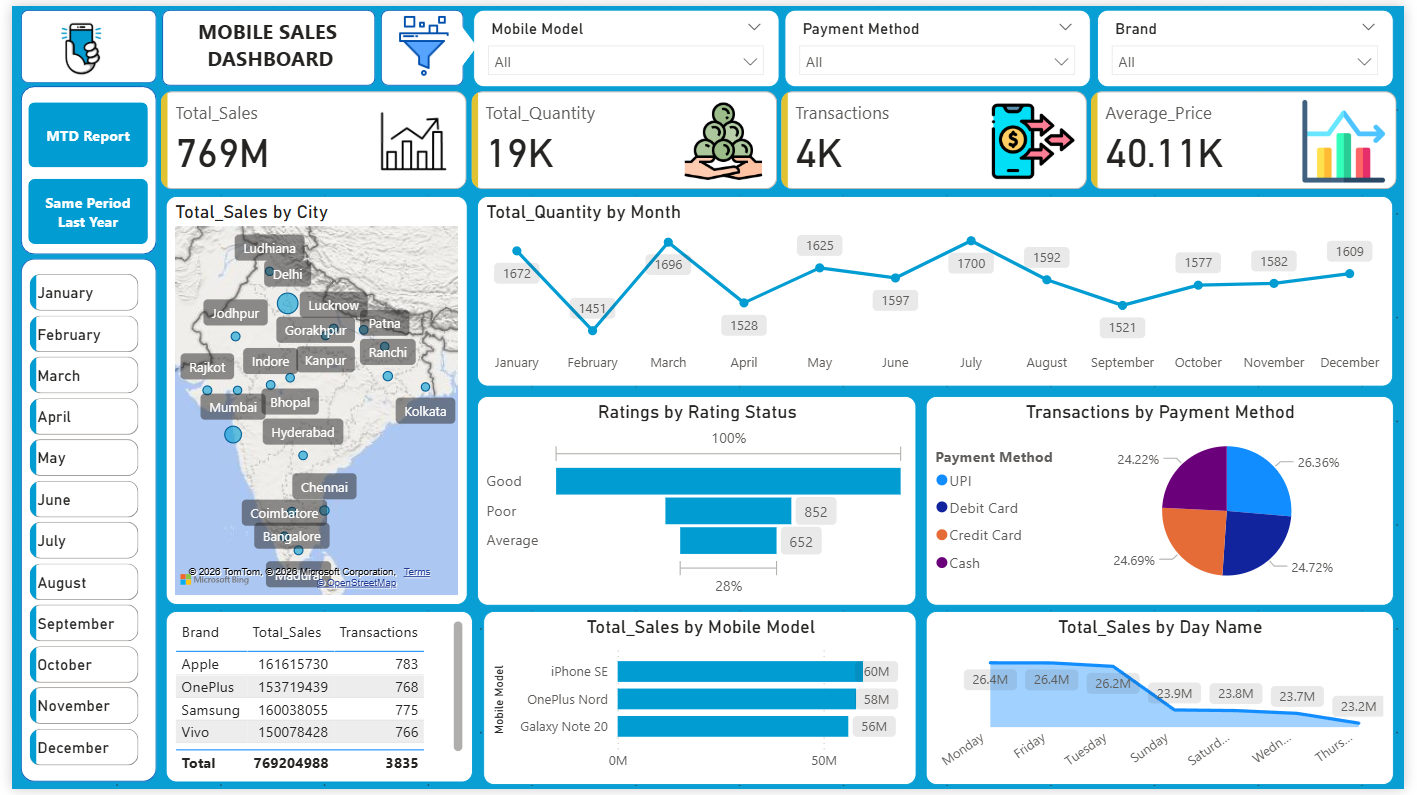

This screenshot's page, from the dashboard's own definition file:
{"tool":"powerbi","page":{"name":"Dashboard","canvas":[1280,720],"ordinal":0},"visuals":[{"type":"shape","box":[7.5,3.8,125,67.5],"z":0},{"type":"image","box":[23.8,3.8,78.8,71.2],"z":1000},{"type":"shape","box":[7.5,73.8,125,155],"z":2000},{"type":"shape","box":[7.5,232.5,125,481.2],"z":3000},{"type":"advancedSlicerVisual","fields":{"Values":["Custom_Calendar.Date.Variation.Date Hierarchy.Month"]},"box":[11.2,241.2,110,472.5],"z":4000},{"type":"cardVisual","fields":{"Data":["Sales_Data.Total_Sales","Sales_Data.Total_Quantity","Sales_Data.Transactions","Sales_Data.Average_Price"]},"box":[132.5,73.8,1147.5,100],"z":5000},{"type":"slicer","fields":{"Values":["Sales_Data.Mobile Model"]},"box":[423.8,3.8,281.2,71.2],"z":6000},{"type":"slicer","fields":{"Values":["Sales_Data.Payment Method"]},"box":[710,3.8,281.2,71.2],"z":7000},{"type":"slicer","fields":{"Values":["Sales_Data.Brand"]},"box":[997.5,3.8,272.5,71.2],"z":8000},{"type":"shape","box":[338.8,3.8,76.2,70],"z":9000},{"type":"image","box":[337.5,3.8,81.2,66.2],"z":10000},{"type":"shape","box":[397.5,17.5,30,40],"z":11000},{"type":"shape","box":[137.5,3.8,196.2,70],"z":12000},{"type":"textbox","box":[156.2,6.2,162.5,63.8],"z":13000},{"type":"map","fields":{"Category":["Sales_Data.City"],"Size":["Sales_Data.Total_Sales"]},"box":[141.2,175,277.5,376.2],"z":14000},{"type":"lineChart","fields":{"Y":["Sales_Data.Total_Quantity"],"Category":["Custom_Calendar.Date.Variation.Date Hierarchy.Month"]},"box":[427.5,175,842.5,175],"z":15000},{"type":"funnel","title":"Ratings by Rating Status","fields":{"Y":["CountNonNull(Sales_Data.Customer Ratings)"],"Category":["Sales_Data.Rating Status"]},"box":[427.5,358.8,403.8,192.5],"z":16000},{"type":"pieChart","fields":{"Y":["Sales_Data.Transactions"],"Category":["Sales_Data.Payment Method"]},"box":[840,358.8,430,192.5],"z":17000},{"type":"clusteredBarChart","fields":{"Y":["Sales_Data.Total_Sales"],"Category":["Sales_Data.Mobile Model"]},"box":[433.8,556.2,398.8,160],"z":18000},{"type":"areaChart","fields":{"Y":["Sales_Data.Total_Sales"],"Category":["Custom_Calendar.Day Name"]},"box":[840,556.2,430,160],"z":19000},{"type":"tableEx","fields":{"Values":["Sales_Data.Brand","Sales_Data.Total_Sales","Sales_Data.Transactions"]},"box":[141.2,556.2,282.5,157.5],"z":20000},{"type":"pageNavigator","box":[15,88.8,110,130],"z":21000}]}

Visuals, with their boxes in screenshot pixels (x1, y1, x2, y2), scaled from the page's 1280x720 canvas onto the 1417x795 screenshot:
shape: BBox(8, 4, 147, 79)
image: BBox(26, 4, 114, 83)
shape: BBox(8, 81, 147, 253)
shape: BBox(8, 257, 147, 788)
advancedSlicerVisual - Custom_Calendar.Date.Variation.Date Hierarchy.Month: BBox(12, 266, 134, 788)
cardVisual - Sales_Data.Total_Sales x Sales_Data.Total_Quantity: BBox(147, 81, 1416, 192)
slicer - Sales_Data.Mobile Model: BBox(469, 4, 780, 83)
slicer - Sales_Data.Payment Method: BBox(786, 4, 1097, 83)
slicer - Sales_Data.Brand: BBox(1104, 4, 1406, 83)
shape: BBox(375, 4, 459, 81)
image: BBox(374, 4, 464, 77)
shape: BBox(440, 19, 473, 63)
shape: BBox(152, 4, 369, 81)
textbox: BBox(173, 7, 353, 77)
map - Sales_Data.City x Sales_Data.Total_Sales: BBox(156, 193, 464, 609)
lineChart - Sales_Data.Total_Quantity x Custom_Calendar.Date.Variation.Date Hierarchy.Month: BBox(473, 193, 1406, 386)
"Ratings by Rating Status" funnel: BBox(473, 396, 920, 609)
pieChart - Sales_Data.Transactions x Sales_Data.Payment Method: BBox(930, 396, 1406, 609)
clusteredBarChart - Sales_Data.Total_Sales x Sales_Data.Mobile Model: BBox(480, 614, 922, 791)
areaChart - Sales_Data.Total_Sales x Custom_Calendar.Day Name: BBox(930, 614, 1406, 791)
tableEx - Sales_Data.Brand x Sales_Data.Total_Sales: BBox(156, 614, 469, 788)
pageNavigator: BBox(17, 98, 138, 242)
